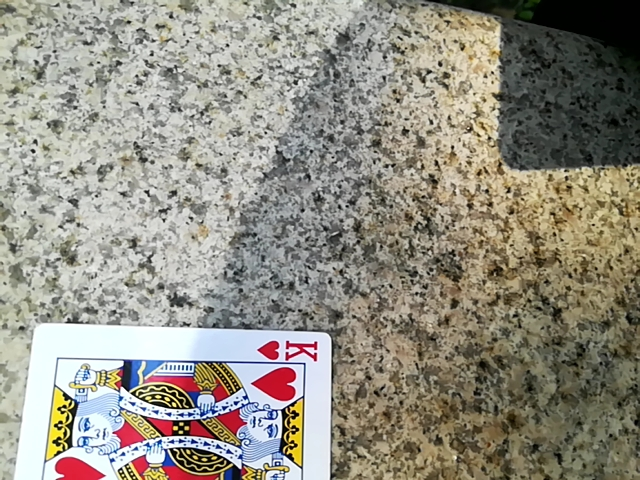hx k: (8, 327, 333, 479)
